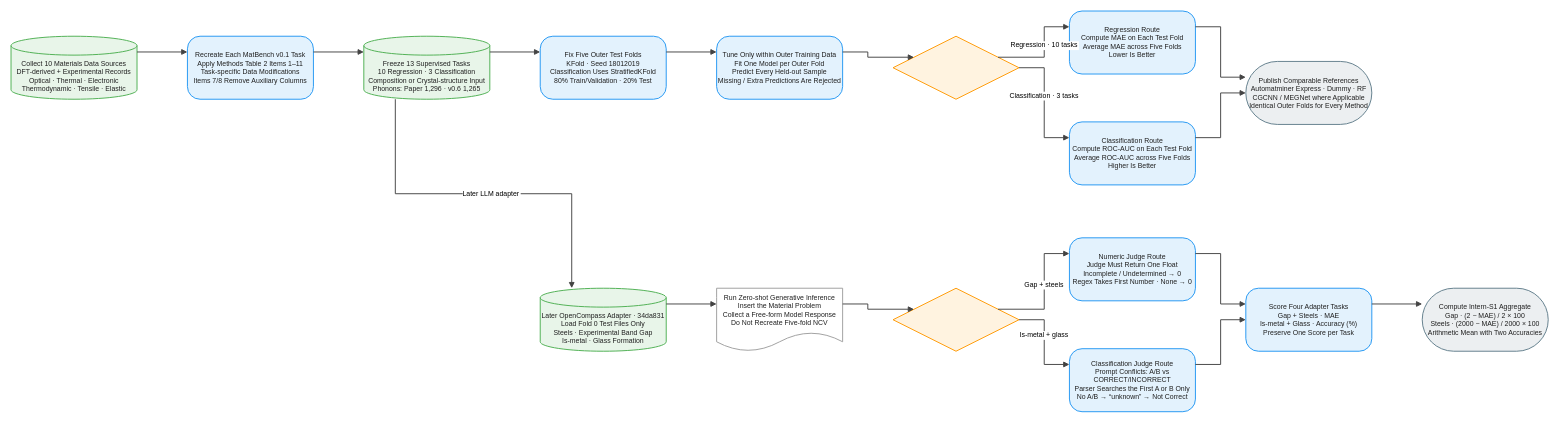
The diagram is 1560 pixels wide and 423 high, and some of its shapes have lost their labels. Here are the shapes that lost their labels. From the top down, the box of each, then its label:
(892, 35, 1019, 99): Original Task Type? Regression or Classification
(892, 287, 1019, 351): Adapter Target Type? Numeric or Binary Class
